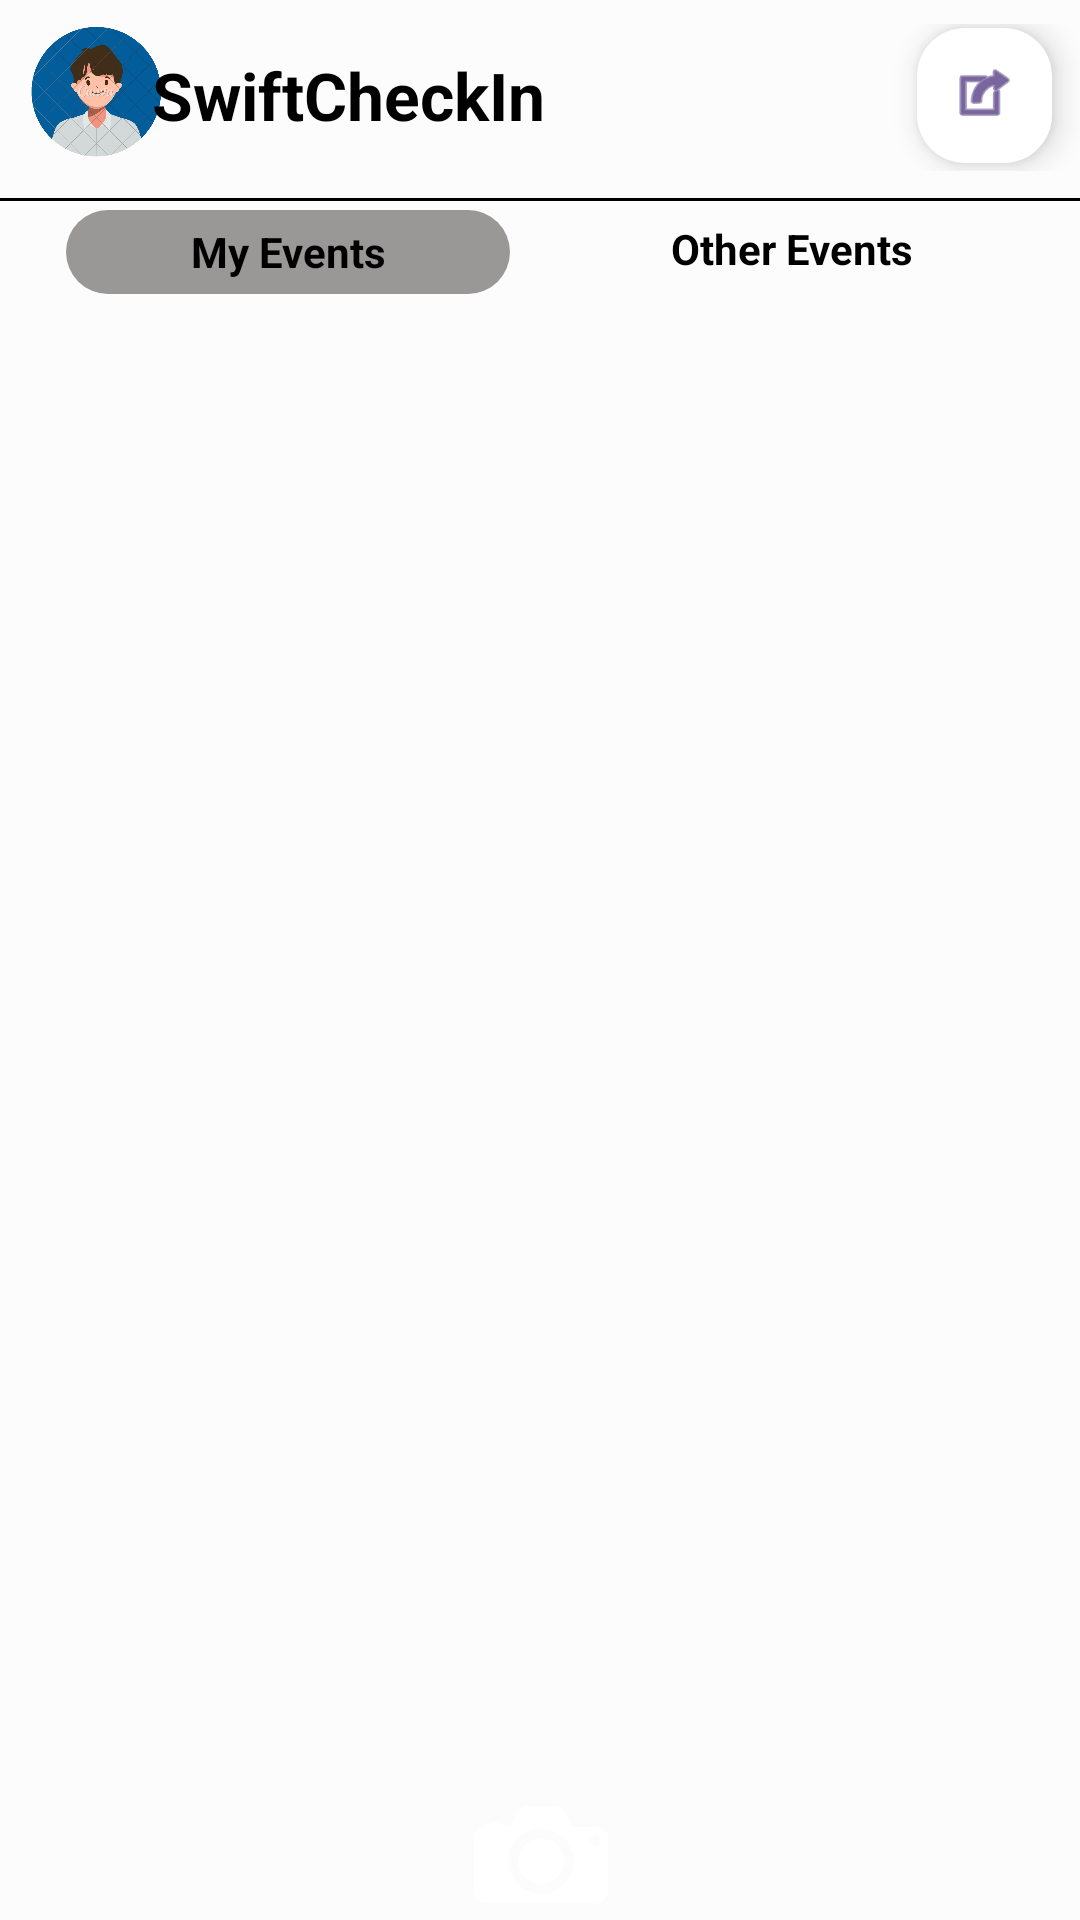

Icons on this 1080px×1920px Android screen, each with the point to tap as point (x, y):
profile pic: point (99, 91)
set as: point (984, 92)
